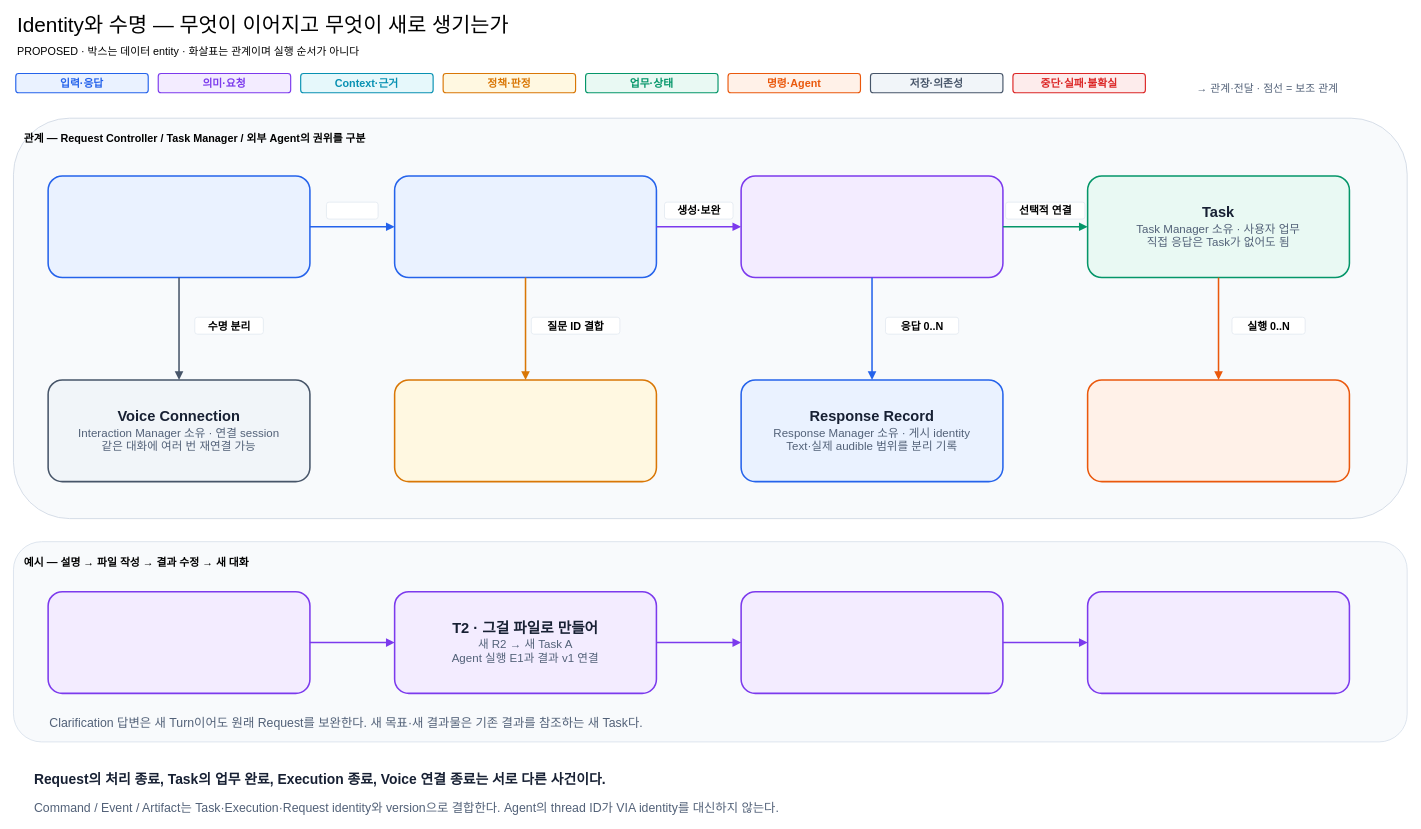
This 1421x829 diagram has some shape labels left out. The shapes that lost their labels are listed below. From the top down, each one's centre as x and y in pixels, then its label:
At [178,226]: "Conversation Controller 소유 · 대화와 실제 응답 Voice 연결이 끝나도 유지".
At [352,210]: "1 : N".
At [525,226]: "Turn Controller 소유 · 제출한 입력 원문·시점·input revision".
At [871,226]: "Request Controller 소유 · 논리적 요청 Request Graph의 node·의존 관계".
At [525,430]: "Pending Interaction Controller 소유 · 질문 identity 새 Turn의 답을 기존 Request에 결합".
At [1218,430]: "Agent Execution 외부 실행 상태의 VIA projection Task 하나에 후속 실행 0..N".
At [178,642]: "T1 · 개념을 설명해줘 R1 직접 응답 · Task 없음 전달된 답변은 후속 참조 가능".
At [871,642]: "T3 · 결론을 추가해줘 새 R3 → 기존 Task A 완료 실행이면 후속 E2 연결".
At [1218,642]: "새 Conversation 기존 Task A는 계속 유지 원래 대화 + 명시적 참조로 접근".
